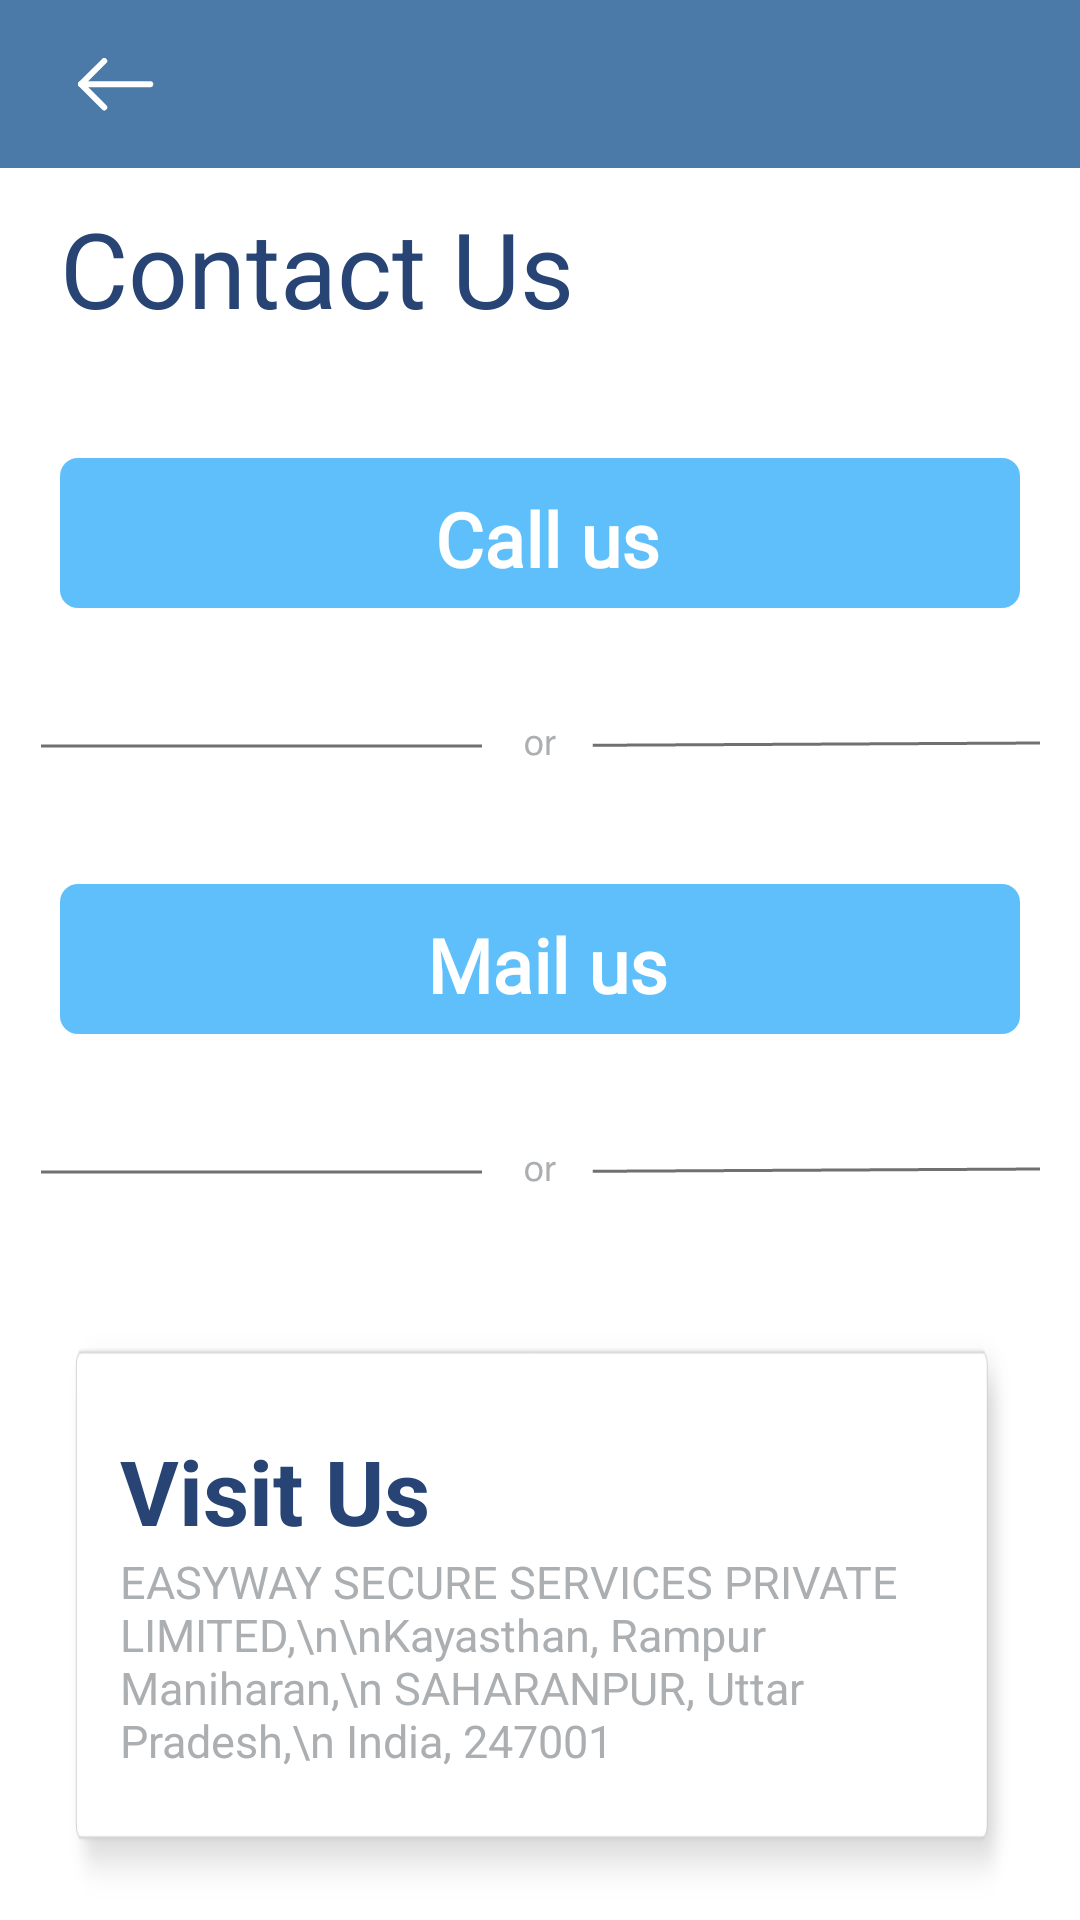

Icons on this 1080 × 1920 Android screen, each with the point to tap as point (x, y):
back: point (116, 84)
